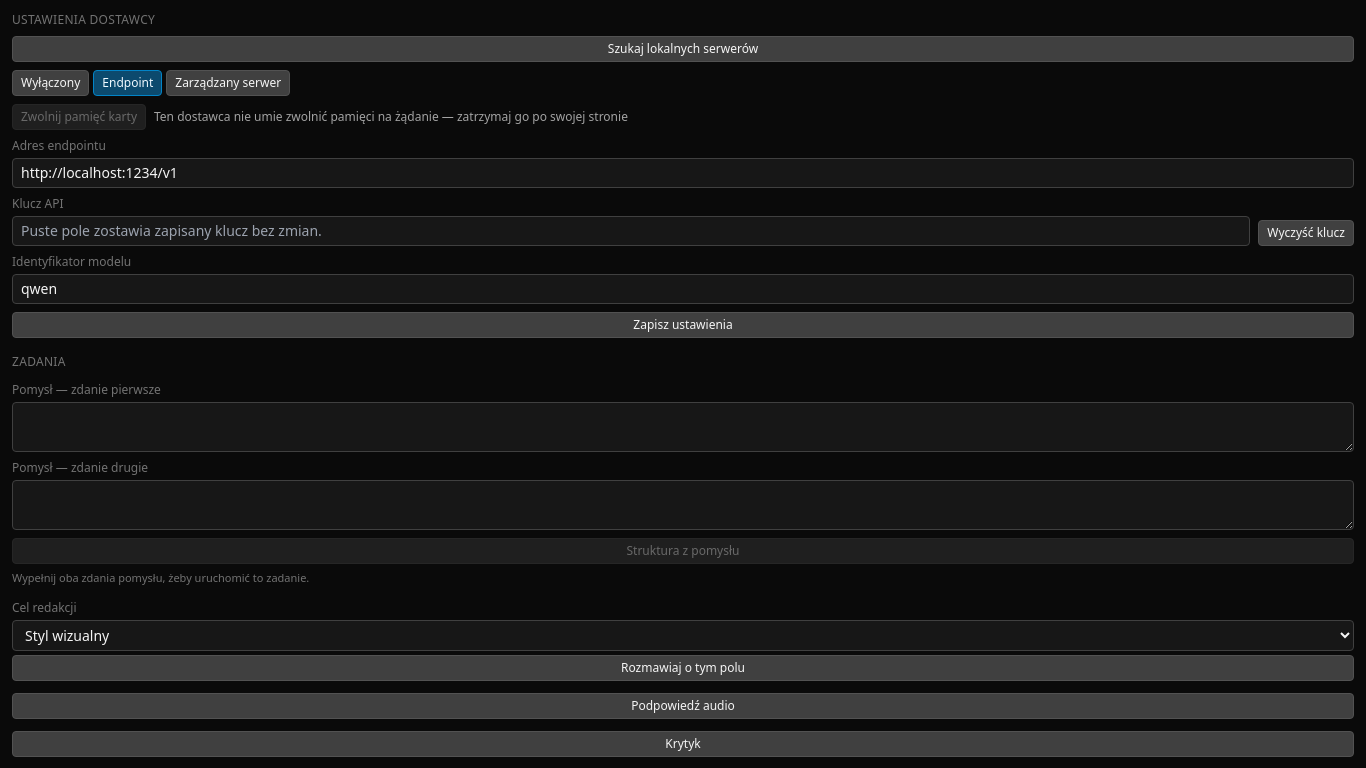
Test: LlmPanel — anulowanie i błędy › anulowanie w trakcie przywraca panel do stanu spoczynku i blokuje resztę zadań podczas biegu
Click the button "Podpowiedź audio" at (683, 706), box [12, 693, 1354, 719]
(page scrolled)
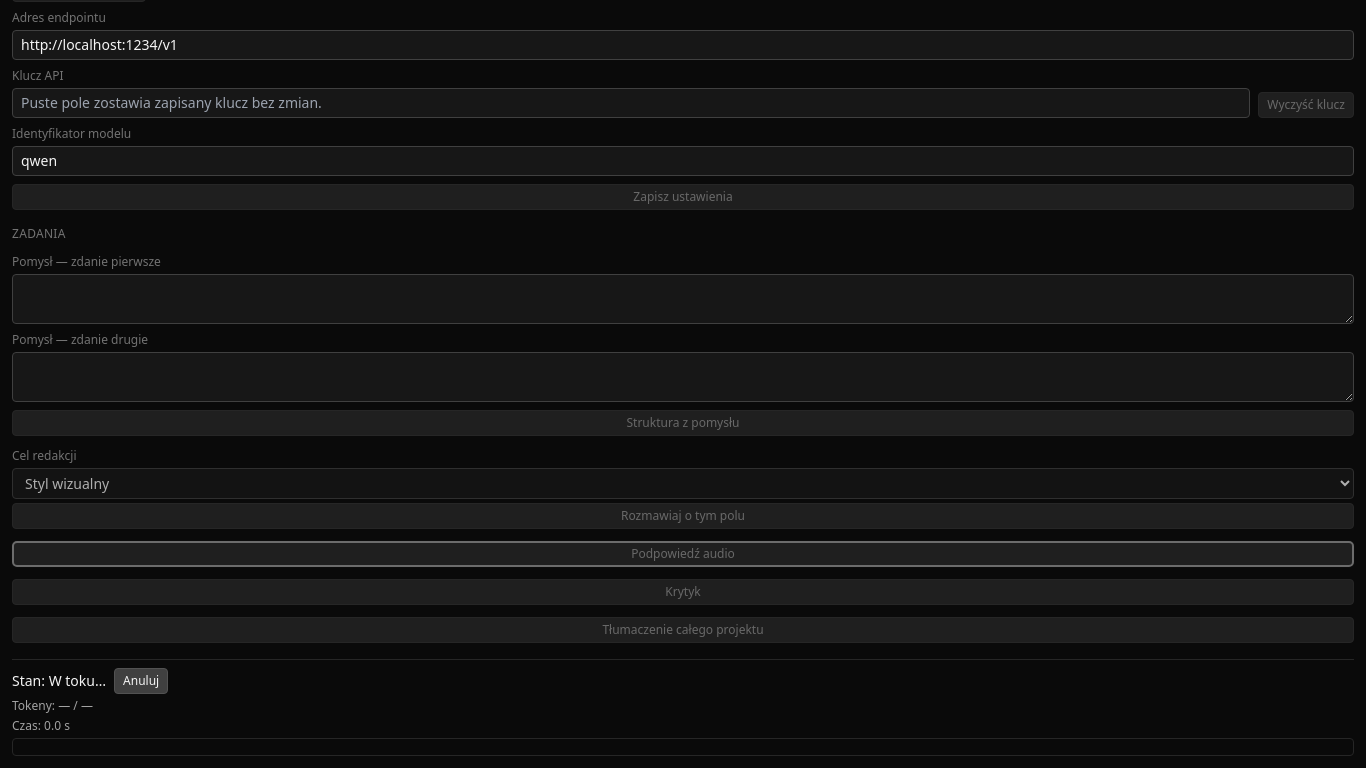
Check: the text "Stan: W toku…" is shown, box [12, 671, 106, 691]
Click the button "Anuluj" at (141, 681), box [114, 668, 168, 694]
(page scrolled)
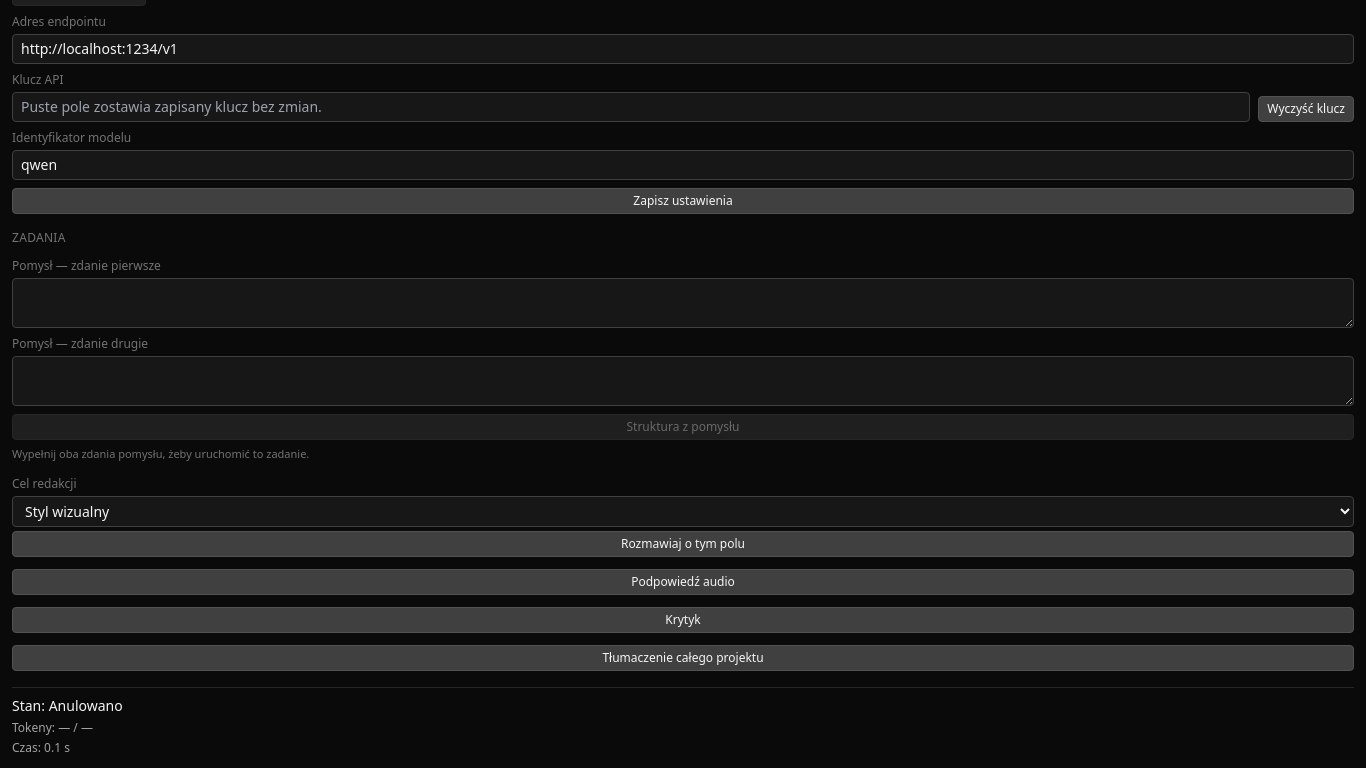
Check: the text "Stan: Anulowano" is shown, box [12, 696, 123, 716]
Check: the button "Anuluj" is gone
